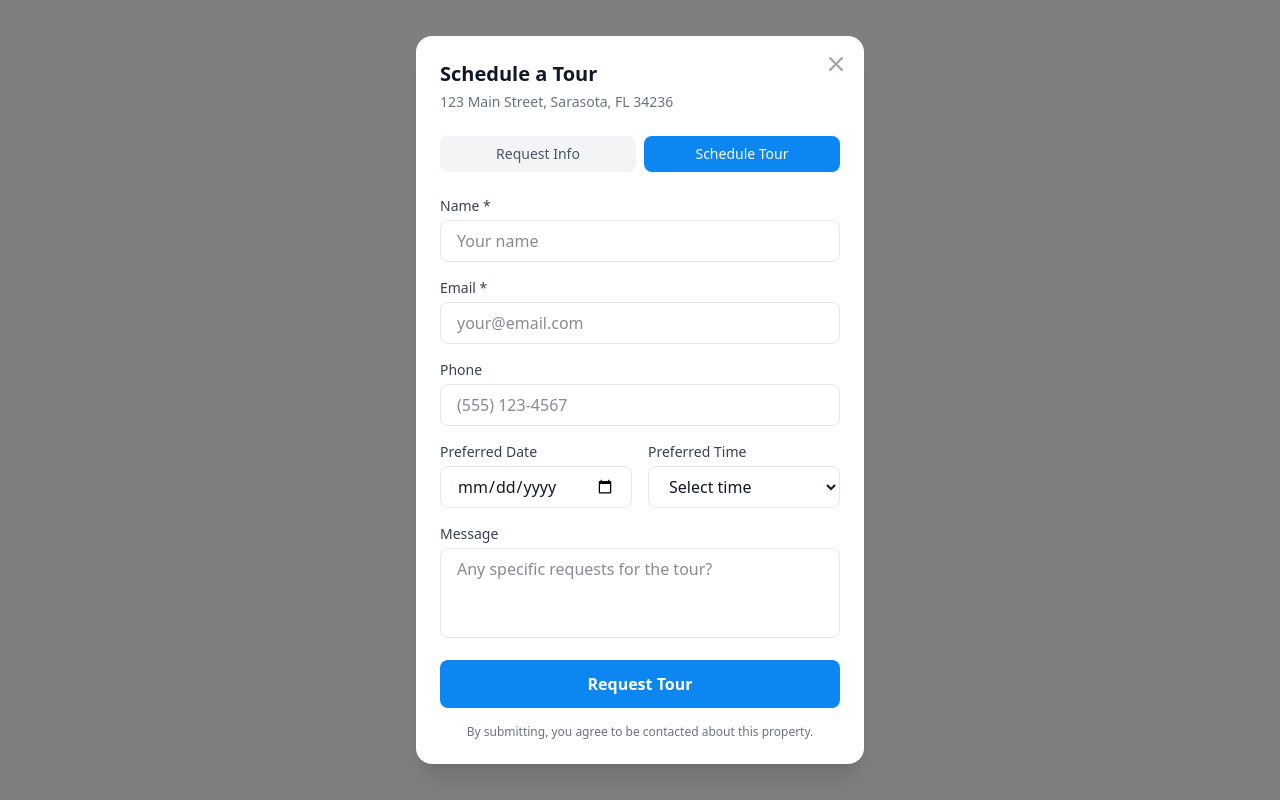
Test: LeadCaptureModal › hides date and time fields when Request Info is selected
Check: the date field labelled "Preferred Date" is shown, box [440,466,632,508]
# Switch to Request Info
Click the button "Request Info" at (538, 154), box [440,136,636,172]
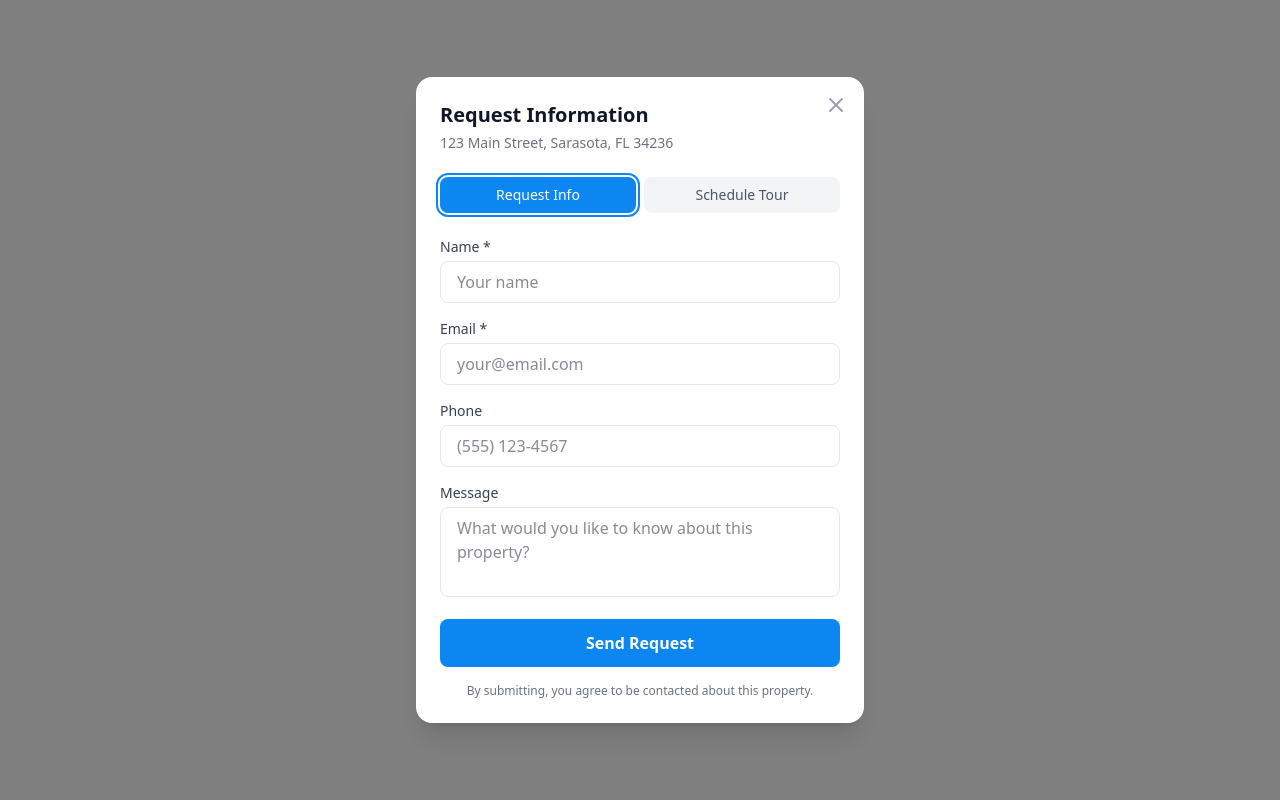
Check: the label labelled "Preferred Date" is gone
